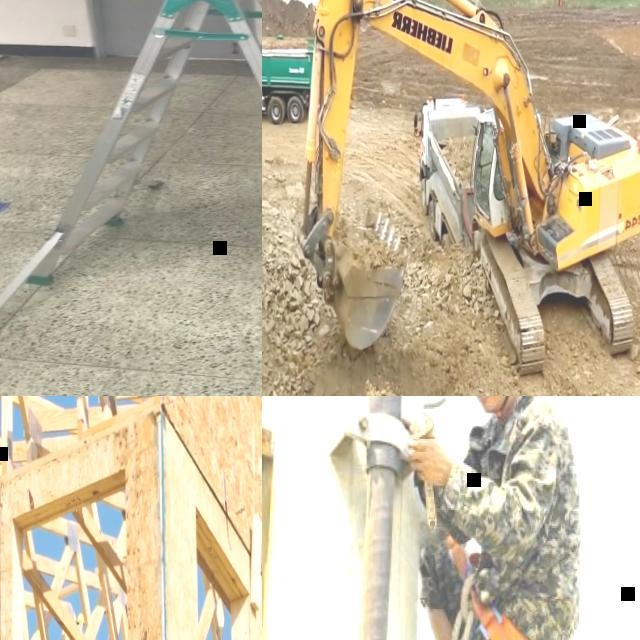NO-Mask: (477, 396, 511, 412)
NO-Safety Vest: (469, 399, 582, 635)
Person: (409, 396, 586, 640), (139, 0, 262, 171), (495, 173, 502, 197)
machinery: (294, 0, 640, 380), (413, 93, 482, 247), (262, 26, 316, 125)
